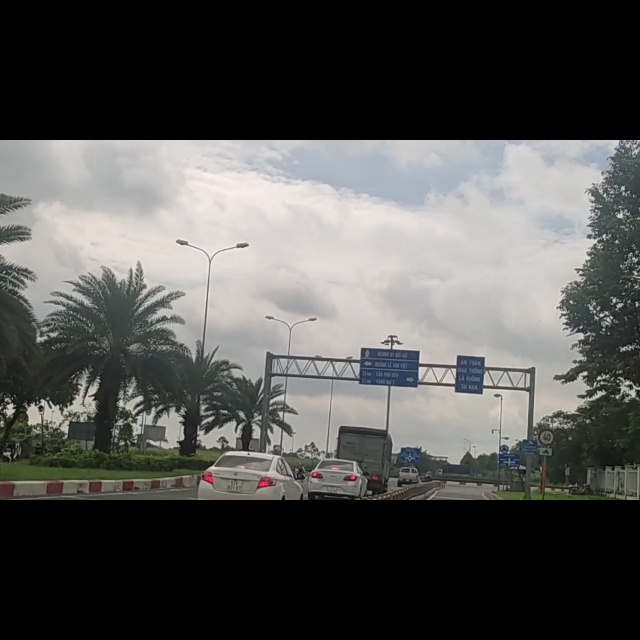bien_chi_dan: (536, 510, 555, 542), (539, 544, 554, 564)
